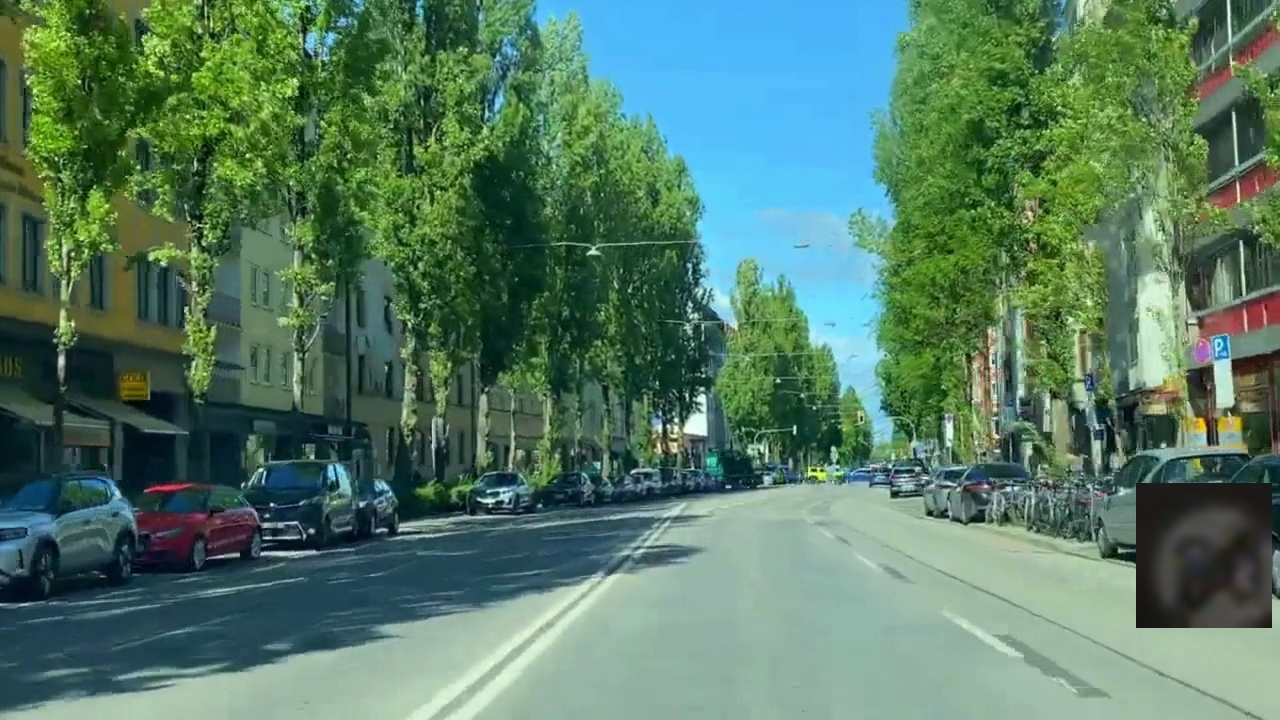End Speed 80: (1136, 483, 1272, 628)
